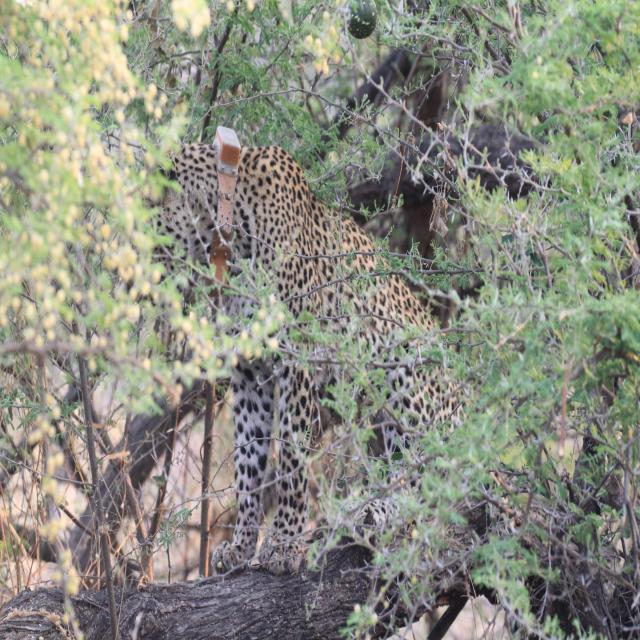Leopard: (126, 94, 496, 586)
